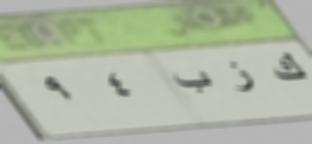4: (103, 68, 138, 109)
9: (42, 64, 79, 107)
baa: (170, 61, 219, 100)
kaaf: (270, 48, 308, 92)
zay: (225, 56, 259, 103)
